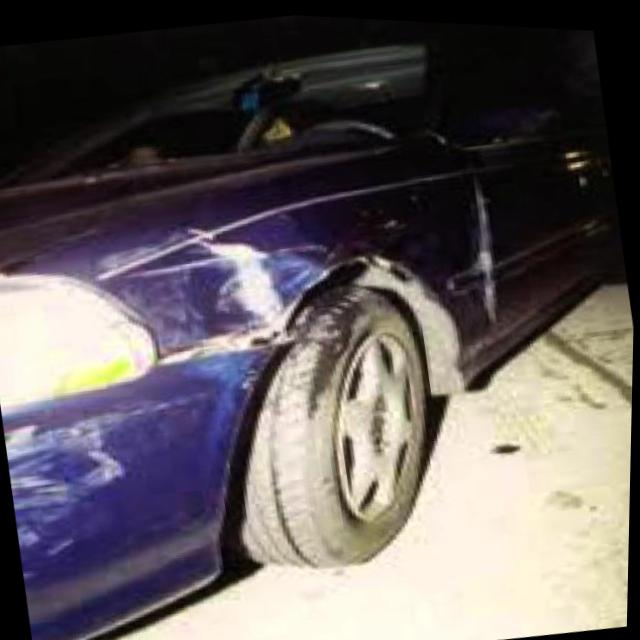Car-Damage: (95, 188, 344, 412), (3, 375, 230, 588), (449, 175, 519, 323)
